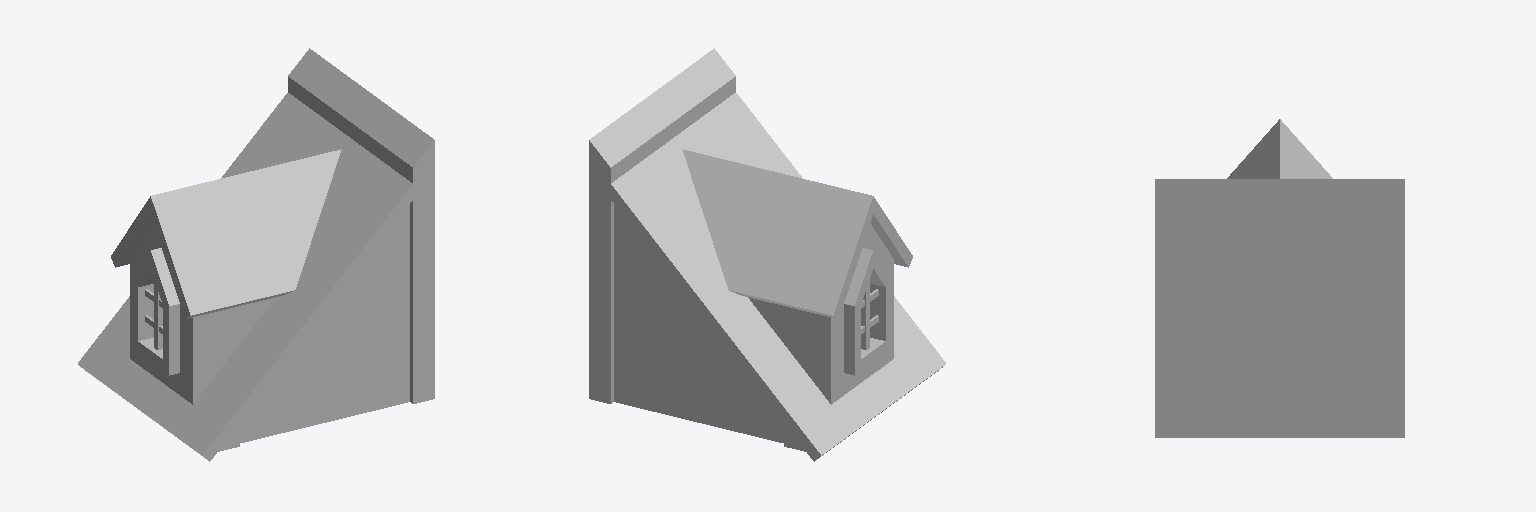
The model's file is roofHighWindow.obj.
3 views of the same model, side by side, from view 1: azimuth 30°, elevation 25°; view 2: azimuth 150°, elevation 25°; view 3: azimuth 270°, elevation 25° (orthographic).
Visible parts, largest first — view 1: roofHighWindow; view 2: roofHighWindow; view 3: roofHighWindow.
Boxes of the visible parts, <box> form: roofHighWindow: <box>78,48,434,461</box>; roofHighWindow: <box>589,48,945,461</box>; roofHighWindow: <box>1155,119,1404,437</box>.
Bounding box in the file's own units: 1.07 × 1.18 × 1.